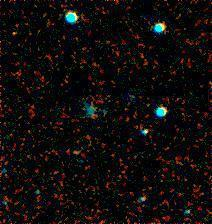star: (0, 19, 29, 49)
